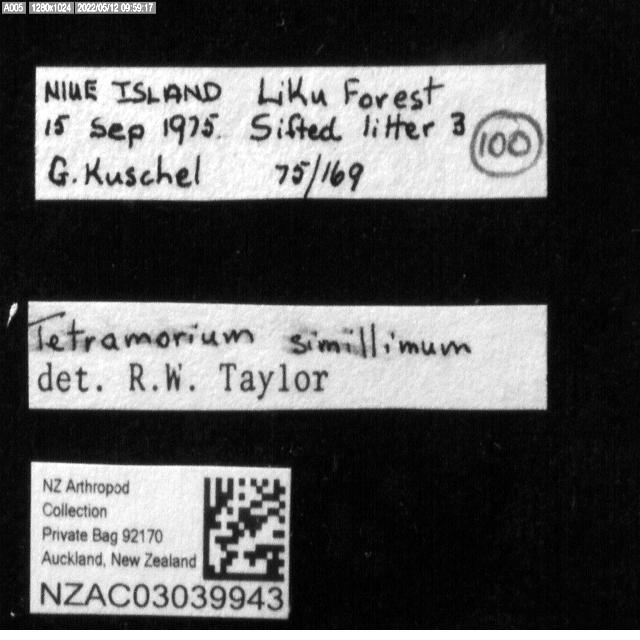hand_label: (35, 64, 548, 200)
mixed_label: (29, 302, 546, 409)
typed_label: (30, 462, 290, 619)
